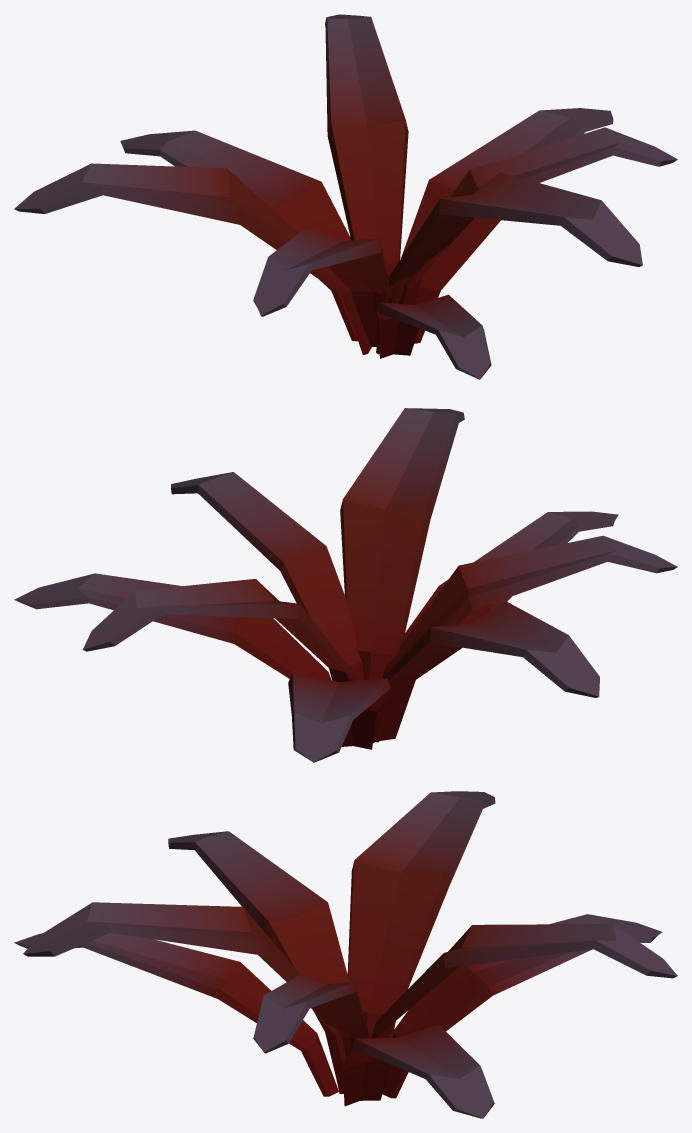
Rendered from synty-plant-01.gltf.
3 renders of one model, top to bottom at view 1: azimuth 30°, elevation 25°; view 2: azimuth 150°, elevation 25°; view 3: azimuth 270°, elevation 25°, orthographic. The views are drawn at different scales.
Parts seen in each view (by area): view 1: SM_Plant_01; view 2: SM_Plant_01; view 3: SM_Plant_01.
Boxes of the visible parts, box(x1,y1,x2,y2) form: SM_Plant_01: box(14, 14, 677, 379); SM_Plant_01: box(14, 408, 677, 762); SM_Plant_01: box(14, 791, 677, 1118).
Size of the model in its own units: 1.37 by 0.479 by 1.37.
Materials: 1 (1 with a texture image).
